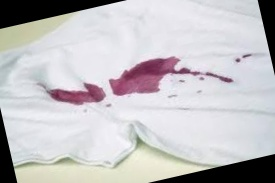wine: (106, 51, 186, 104), (40, 74, 105, 113), (174, 60, 236, 93), (234, 44, 259, 62), (166, 89, 185, 103), (194, 81, 210, 96), (79, 105, 94, 120), (103, 100, 117, 111)
